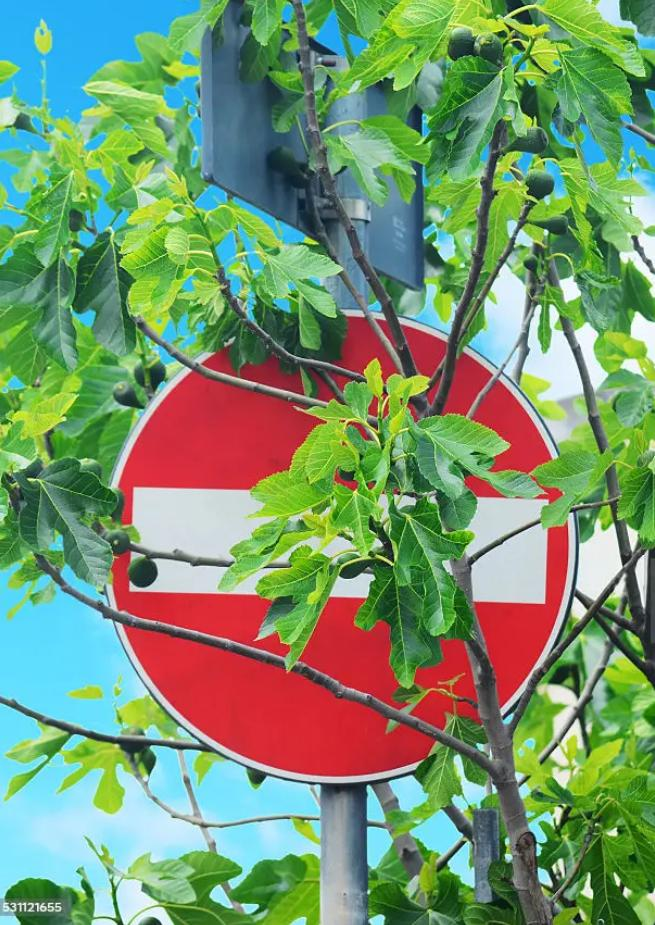obstructed_road_sign: (105, 317, 581, 788)
